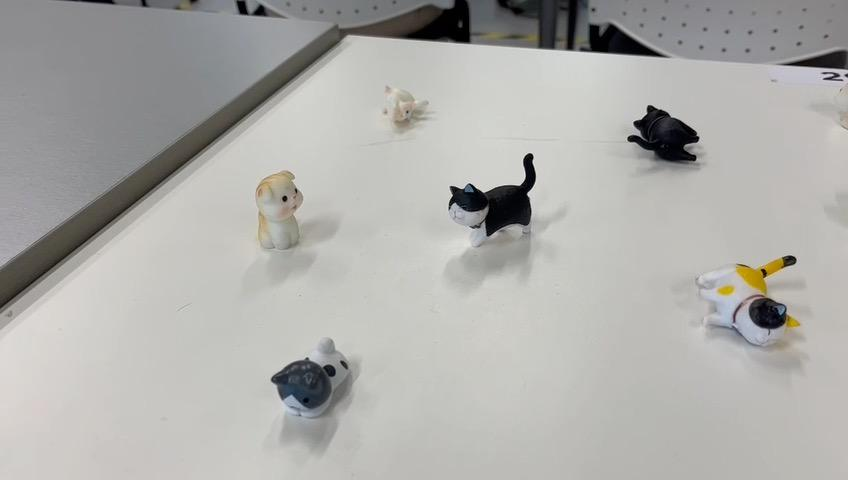pet: (683, 243, 809, 355), (440, 146, 539, 251), (263, 329, 357, 426), (623, 100, 712, 171), (252, 165, 307, 255), (374, 82, 431, 129)
